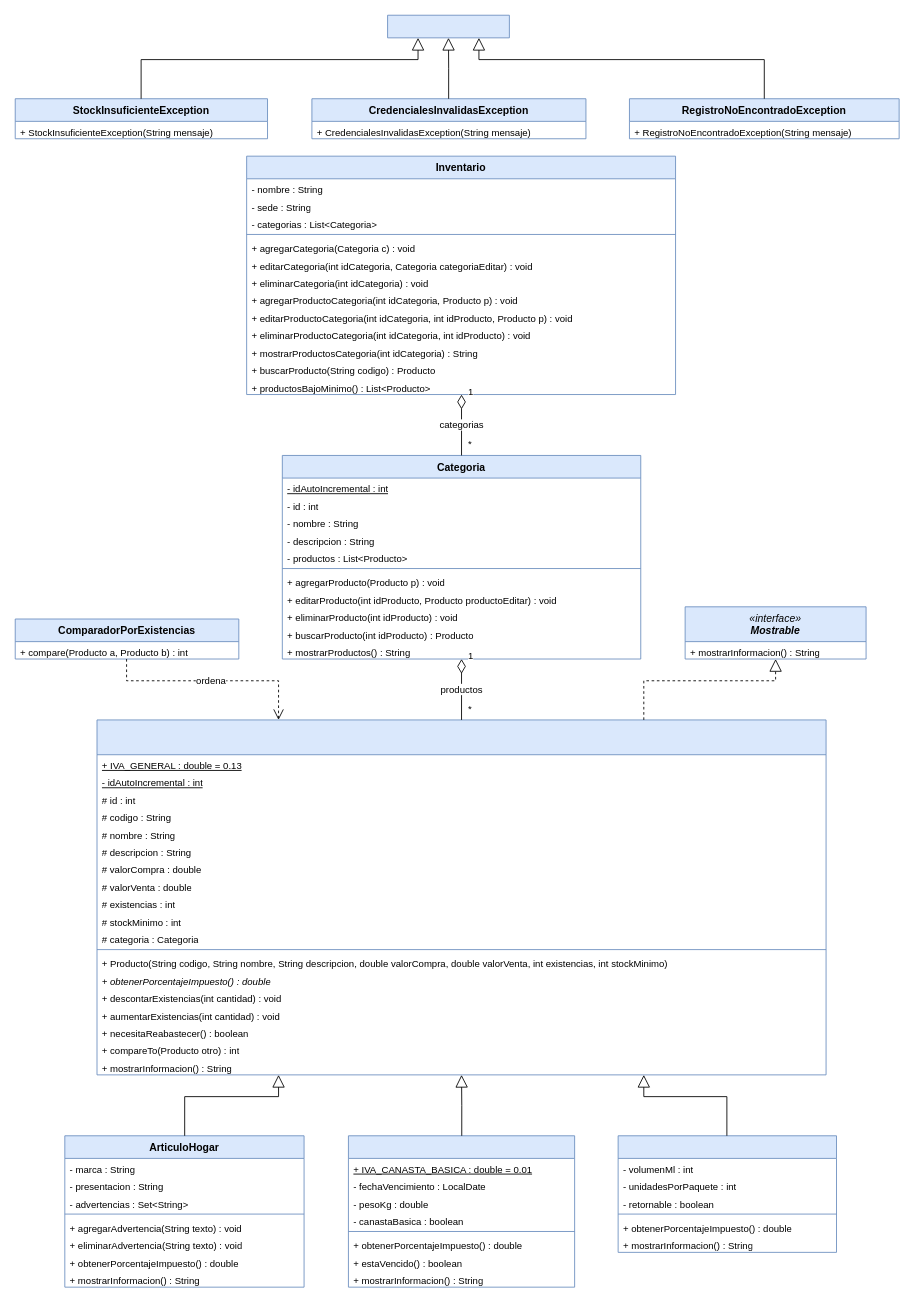
Image size: 914x1305. Some labels were removed from this diagram. The box of each missing label's shape, as (x1, y1, x2, y2) in pixels:
Abarrote: (348, 1135, 575, 1287)
Bebida: (617, 1135, 837, 1252)
Exception: (387, 14, 509, 38)
«abstract» Producto: (96, 719, 826, 1075)
